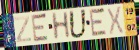E: (89, 7, 109, 38), (31, 12, 50, 43)
H: (50, 10, 71, 42)
U: (68, 9, 88, 40)
X: (106, 5, 124, 36)
Z: (13, 15, 32, 44)
